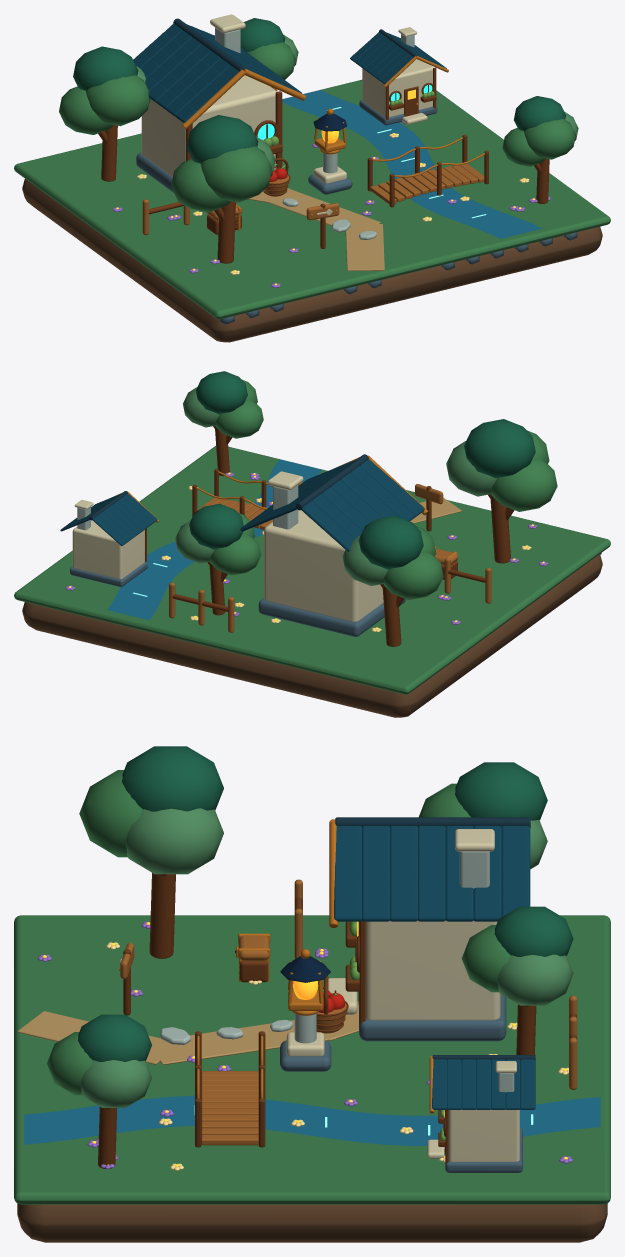
Rendered from 01_home_village.glb.
3 renders of one model, top to bottom at view 1: azimuth 30°, elevation 25°; view 2: azimuth 150°, elevation 25°; view 3: azimuth 270°, elevation 25°, orthographic. The views are drawn at different scales.
Parts seen in each view (by area): view 1: diorama_surface, diorama_earth, meandering_stream, cottage_plaster, round_canopy.006, round_canopy.002, round_canopy.007, cottage_plaster.001, round_canopy.003, round_canopy.004, round_canopy.014, sandy_path (+19 smaller); view 2: diorama_surface, diorama_earth, cottage_plaster, meandering_stream, round_canopy.007, cottage_plaster.001, round_canopy.003, round_canopy.004, round_canopy, cottage_foundation, round_canopy.011, round_canopy.015 (+14 smaller); view 3: diorama_surface, diorama_earth, meandering_stream, cottage_plaster, round_canopy.007, round_canopy.005, round_canopy.003, cottage_plaster.001, cottage_foundation, round_canopy.006, round_canopy.011, round_canopy.009 (+26 smaller).
Part boxes in pixels (box(x1,y1,x2,y2)): diorama_surface: box(14, 79, 610, 319); diorama_earth: box(22, 179, 602, 342); meandering_stream: box(282, 90, 542, 238); cottage_plaster: box(141, 75, 276, 176); round_canopy.006: box(201, 146, 271, 202); round_canopy.002: box(86, 75, 149, 126); round_canopy.007: box(186, 115, 258, 163); cottage_plaster.001: box(362, 59, 433, 117); round_canopy.003: box(73, 46, 138, 90); round_canopy.004: box(171, 159, 230, 212); round_canopy.014: box(524, 119, 575, 159); sandy_path: box(345, 224, 384, 270); diorama_surface: box(14, 446, 610, 694); diorama_earth: box(22, 554, 602, 717); cottage_plaster: box(264, 510, 383, 621); meandering_stream: box(107, 459, 321, 620); round_canopy.007: box(464, 419, 535, 478); cottage_plaster.001: box(72, 520, 144, 579); round_canopy.003: box(358, 515, 423, 569); round_canopy.004: box(491, 460, 557, 511); round_canopy: box(383, 552, 443, 599); cottage_foundation: box(258, 598, 405, 636); round_canopy.011: box(189, 503, 243, 549); round_canopy.015: box(195, 371, 247, 414); diorama_surface: box(14, 915, 610, 1204); diorama_earth: box(17, 1203, 607, 1242); meandering_stream: box(24, 1095, 600, 1145); cottage_plaster: box(365, 920, 500, 1020); round_canopy.007: box(122, 746, 223, 811); round_canopy.005: box(125, 808, 223, 874); round_canopy.003: box(455, 762, 547, 820); cottage_plaster.001: box(448, 1109, 519, 1161); cottage_foundation: box(359, 994, 506, 1041); round_canopy.006: box(79, 770, 142, 857); round_canopy.011: box(494, 906, 573, 956); round_canopy.009: box(497, 954, 573, 1005).
Bounding box in the file's own units: 9.7 × 4.24 × 8.7.
